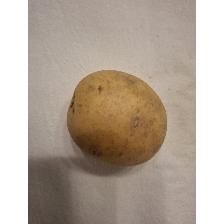Kartoffel: (64, 68, 172, 168)
